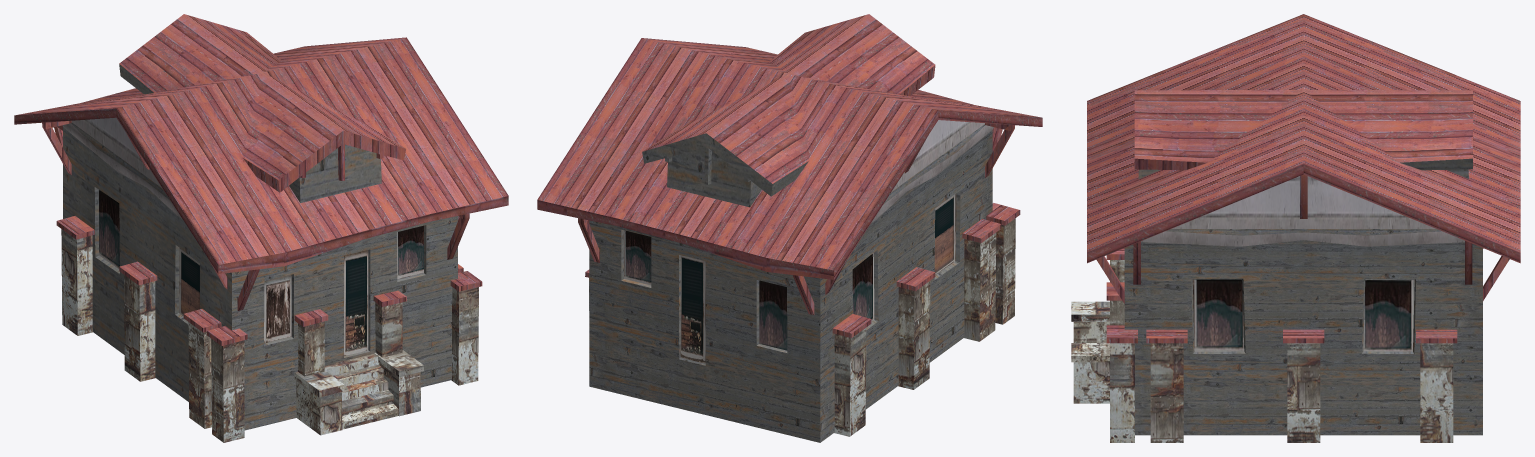
The model's file is rural_houseold_1_material_39_0_lev2.glb.
3 views of the same model, side by side, from view 1: azimuth 30°, elevation 25°; view 2: azimuth 150°, elevation 25°; view 3: azimuth 270°, elevation 25° (orthographic). The views are drawn at different scales.
Visible parts, largest first — view 1: rural_houseold_1_material_39_0_lev2; view 2: rural_houseold_1_material_39_0_lev2; view 3: rural_houseold_1_material_39_0_lev2.
Boxes of the visible parts, x1,y1,x2,y2 form: rural_houseold_1_material_39_0_lev2: [14, 14, 508, 442]; rural_houseold_1_material_39_0_lev2: [537, 14, 1042, 442]; rural_houseold_1_material_39_0_lev2: [1071, 14, 1520, 442].
Size of the model in its own units: 5.11 by 4.57 by 6.45.
Materials: 1 (1 with a texture image).
